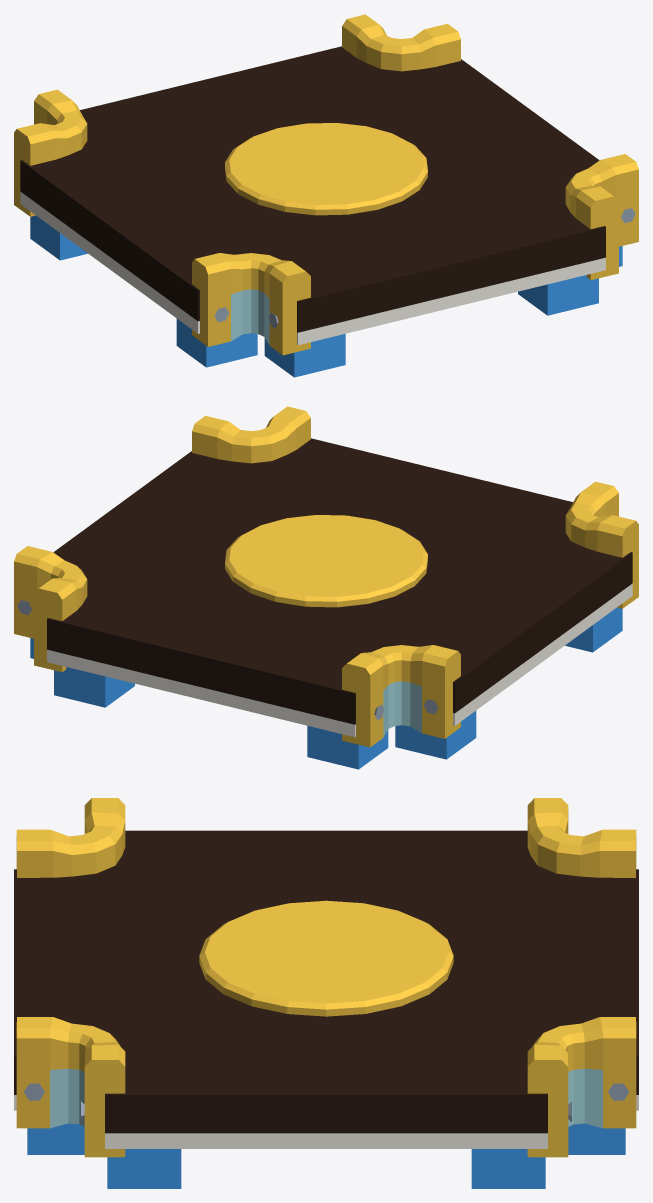
File: Cross.glb
The picture shows the model from 3 angles, top to bottom: view 1: azimuth 30°, elevation 25°; view 2: azimuth 150°, elevation 25°; view 3: azimuth 270°, elevation 25°; orthographic projection. The views are drawn at different scales.
Parts seen in each view (by area): view 1: Cross; view 2: Cross; view 3: Cross.
Boxes of the visible parts, x1=… form: Cross: x1=14, y1=14, x2=638, y2=377; Cross: x1=14, y1=406, x2=638, y2=769; Cross: x1=14, y1=798, x2=638, y2=1188.
Size of the model in its own units: 1.11 by 0.2626 by 1.11.
1 material, 1 textured.
